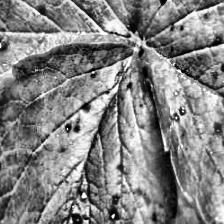Leaf Spot: (0, 42, 179, 224), (135, 0, 224, 224), (0, 0, 142, 130)
